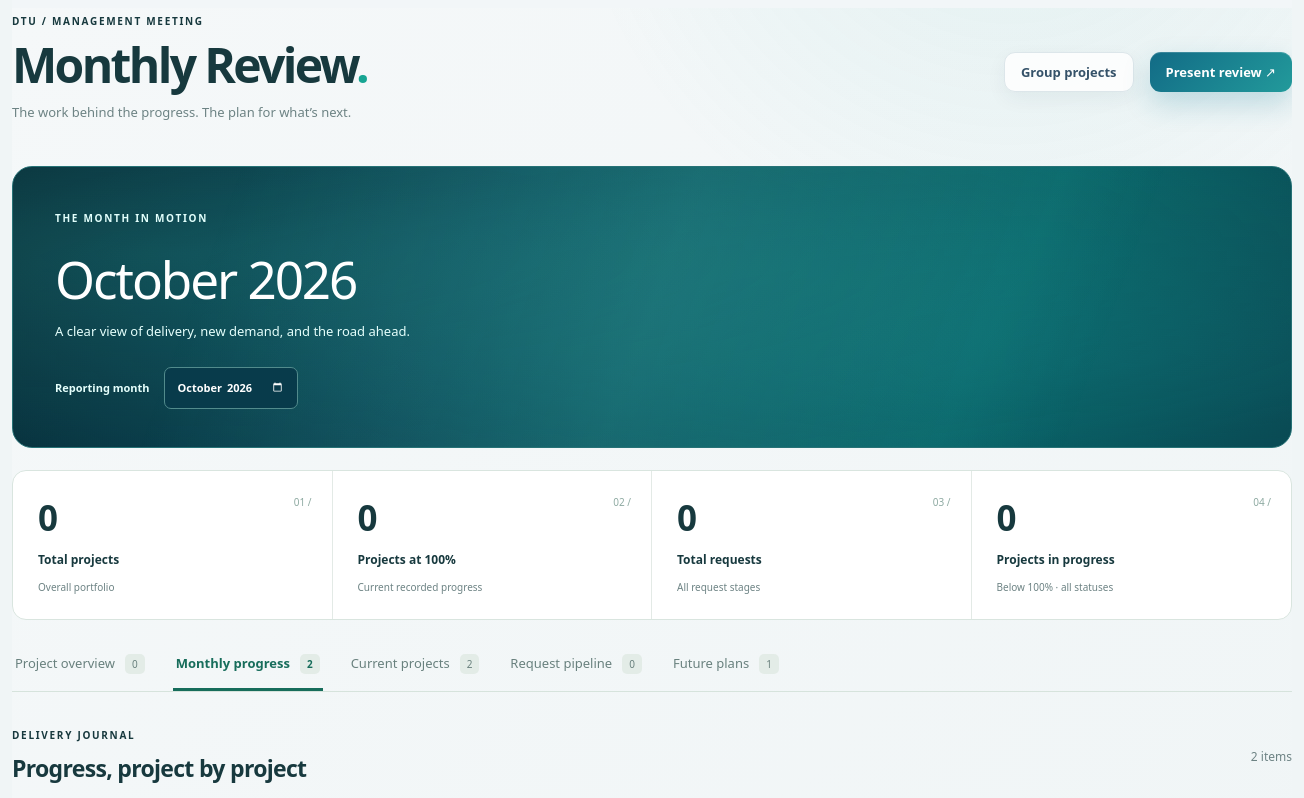
Test: separates the live plan pipeline from the monthly activity
Click the button "Future plans1" at (726, 672), box [670,654,782,691]
Wait 160 ms
(page scrolled)
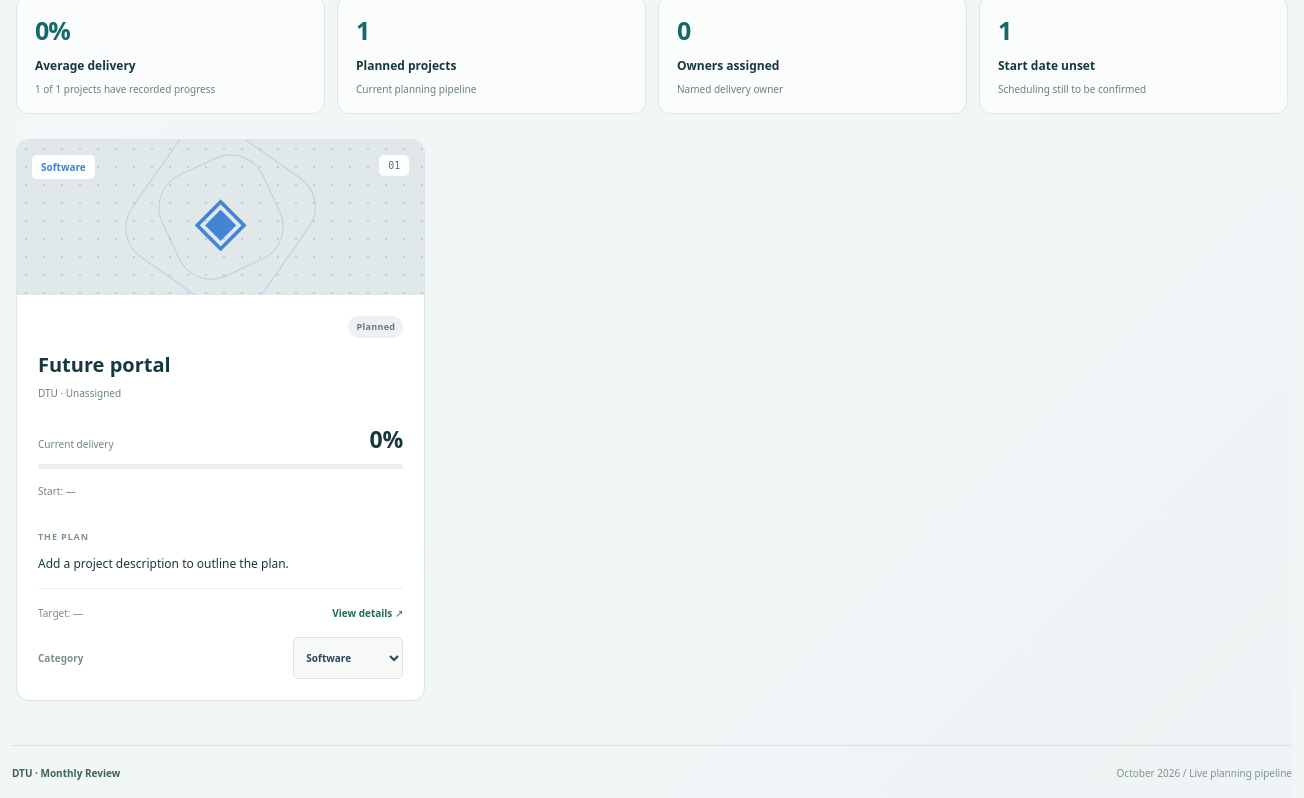
Expected: the number of elements with class "mr-card" is 1, [16,139,425,701]
Expected: the element with class "mr-grid" shows "Future portal", [38,352,171,378]
